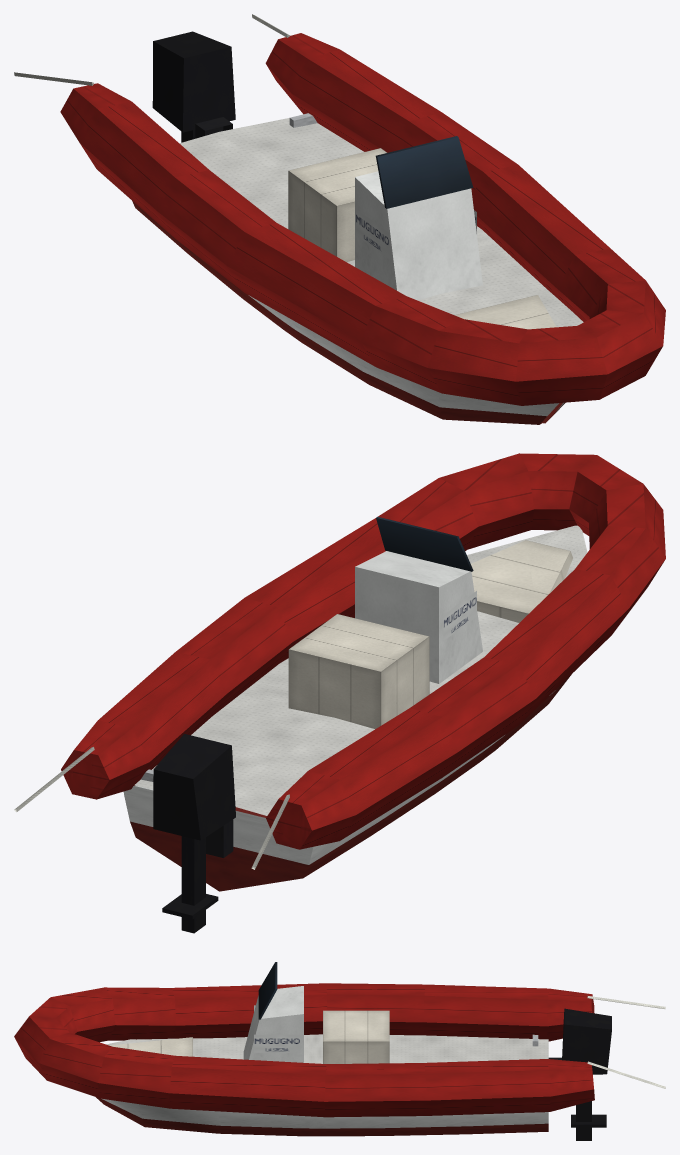
The model's file is SM_Morin_Barca_Gommone_Rosso_LOD1.fbx.
3 renders of one model, top to bottom at view 1: azimuth 30°, elevation 25°; view 2: azimuth 150°, elevation 25°; view 3: azimuth 270°, elevation 25°, orthographic. The views are drawn at different scales.
Parts seen in each view (by area): view 1: SM_Morin_Barca_Gommone_Rosso_LOD1; view 2: SM_Morin_Barca_Gommone_Rosso_LOD1; view 3: SM_Morin_Barca_Gommone_Rosso_LOD1.
Part boxes in pixels (x1,y1,x2,y2): SM_Morin_Barca_Gommone_Rosso_LOD1: (14,14,665,424); SM_Morin_Barca_Gommone_Rosso_LOD1: (14,453,665,933); SM_Morin_Barca_Gommone_Rosso_LOD1: (14,962,665,1140).
Bounding box in the file's own units: 220 × 586 × 162.
1 material, 1 textured.
